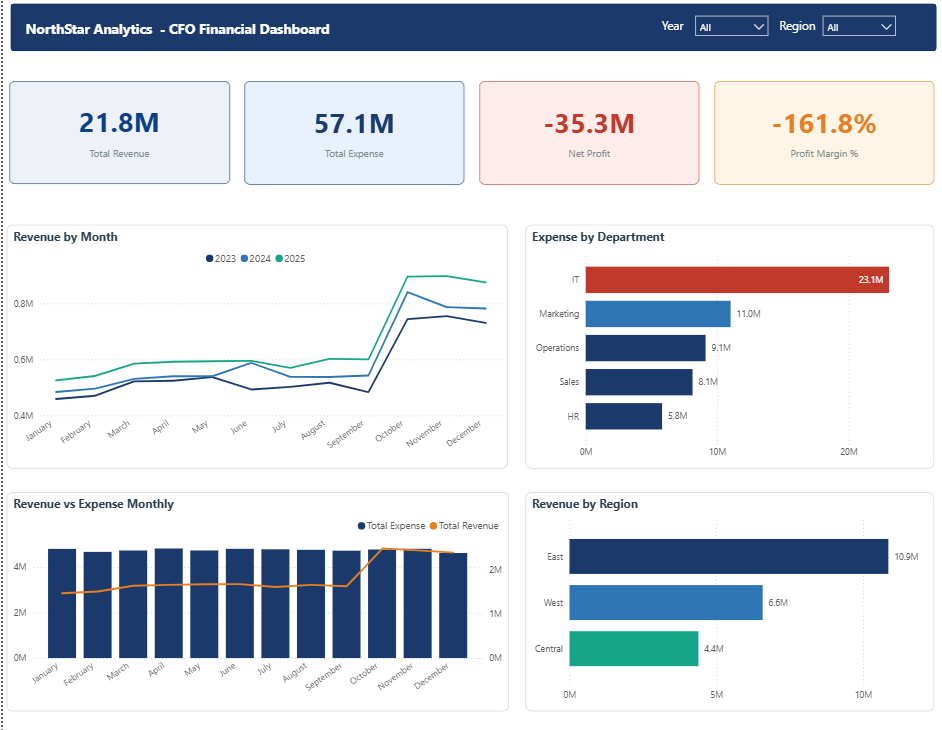

The dashboard page shown, as its layout file describes it:
{"tool":"powerbi","page":{"name":"Executive Summary","canvas":[1280,1000],"ordinal":0},"visuals":[{"type":"shape","box":[9.8,11,1258.3,64.8],"z":0},{"type":"textbox","box":[25.7,26.9,441.4,40.4],"z":1000},{"type":"slicer","fields":{"Values":["production dim_date.year"]},"box":[935.5,22,108.8,44],"z":2000},{"type":"textbox","box":[890.2,24.5,62.4,33],"z":3000},{"type":"slicer","fields":{"Values":["production dim_region.region_name"]},"box":[1109.1,22,108.8,44],"z":4000},{"type":"textbox","box":[1049.2,24.5,62.4,33],"z":5000},{"type":"advanceCardE03760C5AB684758B56AA29F9E6C257B","fields":{"mainMeasure":["_Measures.Total Revenue"]},"box":[8.4,116,300,140],"z":6000},{"type":"advanceCardE03760C5AB684758B56AA29F9E6C257B","fields":{"mainMeasure":["_Measures.Total Expense"]},"box":[328.3,116,299.6,140.6],"z":7000},{"type":"advanceCardE03760C5AB684758B56AA29F9E6C257B","fields":{"mainMeasure":["_Measures.Net Profit"]},"box":[647.7,116,299.6,140.6],"z":8000},{"type":"advanceCardE03760C5AB684758B56AA29F9E6C257B","fields":{"mainMeasure":["_Measures.Profit Margin %"]},"box":[967.1,116,299.6,140.6],"z":9000},{"type":"lineChart","title":"Revenue by Month","fields":{"Category":["production dim_date.month_name"],"Y":["_Measures.Total Revenue"],"Series":["production dim_date.year"]},"box":[5.1,310.8,681,331.2],"z":10000},{"type":"clusteredBarChart","title":"Expense by Department","fields":{"Category":["production dim_department.dept_name"],"Y":["_Measures.Total Expense"]},"box":[709.9,310.8,555.4,331.2],"z":11000},{"type":"lineStackedColumnComboChart","title":"Revenue vs Expense Monthly","fields":{"Category":["production dim_date.month_name"],"Y":["_Measures.Total Expense"],"Y2":["_Measures.Total Revenue"]},"box":[5.1,673.9,682.7,297.2],"z":12000},{"type":"clusteredBarChart","title":" Revenue by Region","fields":{"Category":["production dim_region.region_name"],"Y":["_Measures.Total Revenue"]},"box":[709.9,673.9,555.4,297.2],"z":13000}]}

Visuals, with their boxes in screenshot pixels (x1, y1, x2, y2), scaled from the page's 1280x1000 canvas onto the 942x730 screenshot:
shape: box(7, 8, 933, 55)
textbox: box(19, 20, 344, 49)
slicer - production dim_date.year: box(688, 16, 769, 48)
textbox: box(655, 18, 701, 42)
slicer - production dim_region.region_name: box(816, 16, 896, 48)
textbox: box(772, 18, 818, 42)
advanceCardE03760C5AB684758B56AA29F9E6C257B - _Measures.Total Revenue: box(6, 85, 227, 187)
advanceCardE03760C5AB684758B56AA29F9E6C257B - _Measures.Total Expense: box(242, 85, 462, 187)
advanceCardE03760C5AB684758B56AA29F9E6C257B - _Measures.Net Profit: box(477, 85, 697, 187)
advanceCardE03760C5AB684758B56AA29F9E6C257B - _Measures.Profit Margin %: box(712, 85, 932, 187)
"Revenue by Month" lineChart: box(4, 227, 505, 469)
"Expense by Department" clusteredBarChart: box(522, 227, 931, 469)
"Revenue vs Expense Monthly" lineStackedColumnComboChart: box(4, 492, 506, 709)
" Revenue by Region" clusteredBarChart: box(522, 492, 931, 709)
